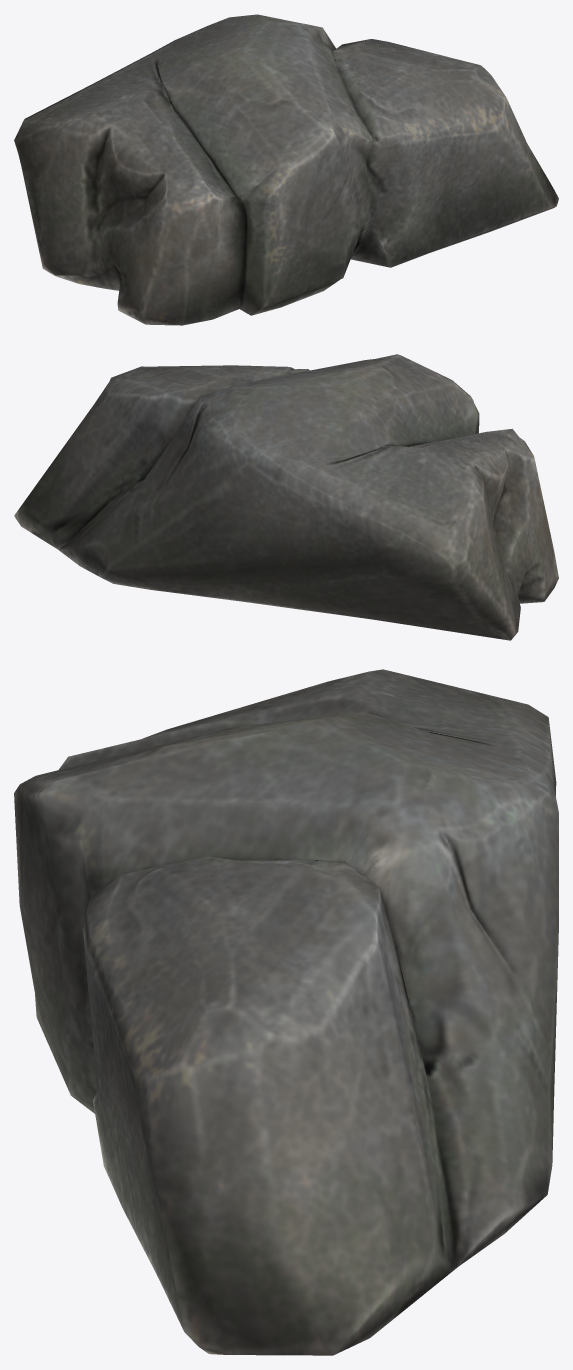
The model's file is rock.obj.
3 renders of one model, top to bottom at view 1: azimuth 30°, elevation 25°; view 2: azimuth 150°, elevation 25°; view 3: azimuth 270°, elevation 25°, orthographic. The views are drawn at different scales.
Parts seen in each view (by area): view 1: Rock_Low_Poly_Plane; view 2: Rock_Low_Poly_Plane; view 3: Rock_Low_Poly_Plane.
Boxes of the visible parts, <box> form: Rock_Low_Poly_Plane: <box>14,14,558,325</box>; Rock_Low_Poly_Plane: <box>14,354,558,640</box>; Rock_Low_Poly_Plane: <box>14,669,558,1355</box>.
Size of the model in its own units: 1.85 by 0.7467 by 0.97.
Materials: 1 (1 with a texture image).
